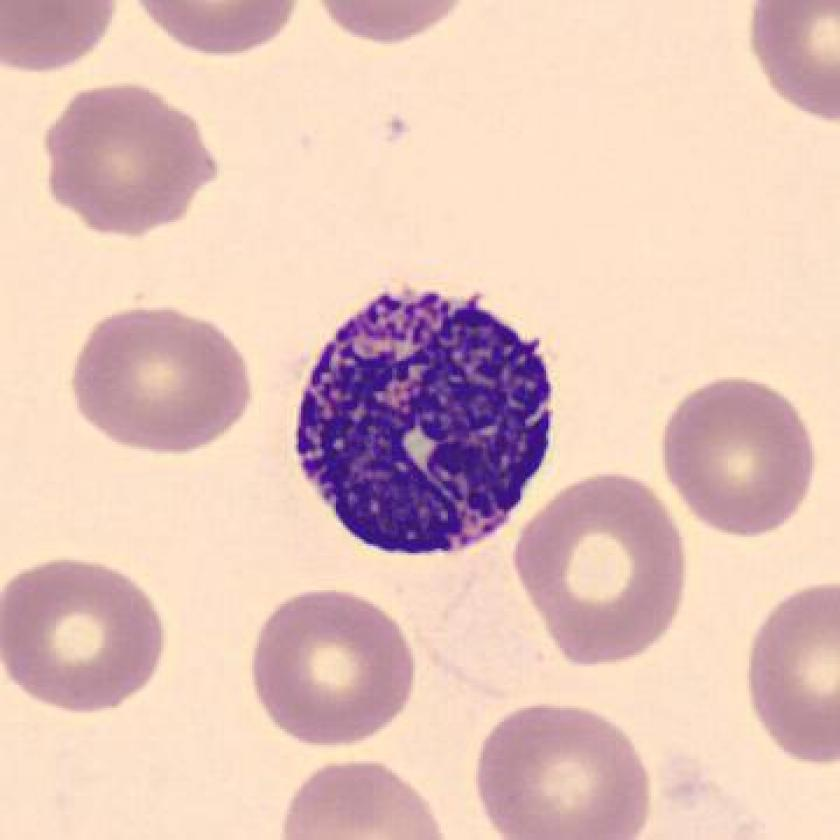basophil: (283, 274, 566, 570)
